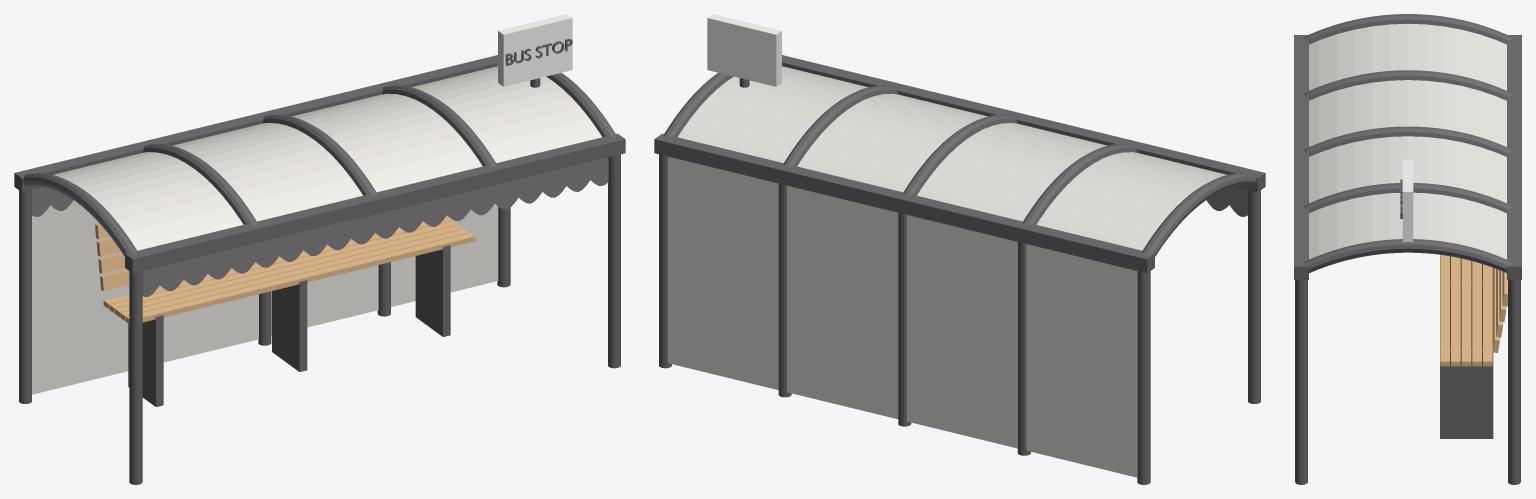
Rendered from 34-bus-stop-shelter-bs1.glb.
3 renders of one model, left to right at view 1: azimuth 30°, elevation 25°; view 2: azimuth 150°, elevation 25°; view 3: azimuth 270°, elevation 25°, orthographic. The views are drawn at different scales.
Parts seen in each view (by area): view 1: VaultSkin, RearGlazing, Valance_front, EaveBeam_front, EaveBeam_back, SignBlade, BenchSeat_0, PostFrontEnd_0, BenchLeg_0.0, BenchLeg_1.5, PostRear_0, PostFrontEnd_1 (+14 smaller); view 2: RearGlazing, VaultSkin, EaveBeam_back, EaveBeam_front, SignBlade, PostRear_0, PostFrontEnd_0, Rib_0, PostRear_1, PostRear_3, PostRear_2, PostRear_4 (+5 smaller); view 3: VaultSkin, BenchLeg_1.5, EaveBeam_front, EaveBeam_back, Rib_4, PostRear_4, PostFrontEnd_1, Rib_1, Rib_2, Rib_0, Rib_3, BenchSeat_2 (+8 smaller).
Part boxes in pixels (left/top/right/bottom): VaultSkin: left=53, top=66, right=601, bottom=250; RearGlazing: left=32, top=200, right=498, bottom=394; Valance_front: left=142, top=157, right=608, bottom=296; EaveBeam_front: left=125, top=133, right=625, bottom=273; EaveBeam_back: left=14, top=55, right=497, bottom=192; SignBlade: left=498, top=14, right=572, bottom=86; BenchSeat_0: left=126, top=232, right=475, bottom=323; PostFrontEnd_0: left=129, top=271, right=142, bottom=484; BenchLeg_0.0: left=272, top=280, right=307, bottom=371; BenchLeg_1.5: left=415, top=245, right=450, bottom=336; PostRear_0: left=19, top=190, right=31, bottom=403; PostFrontEnd_1: left=608, top=154, right=620, bottom=368; RearGlazing: left=668, top=156, right=1137, bottom=477; VaultSkin: left=678, top=66, right=1226, bottom=250; EaveBeam_back: left=654, top=133, right=1154, bottom=273; EaveBeam_front: left=782, top=55, right=1265, bottom=192; SignBlade: left=707, top=14, right=781, bottom=86; PostRear_0: left=1137, top=271, right=1150, bottom=484; PostFrontEnd_0: left=1248, top=190, right=1260, bottom=403; Rib_0: left=1142, top=173, right=1256, bottom=256; PostRear_1: left=1017, top=242, right=1030, bottom=455; PostRear_3: left=778, top=183, right=791, bottom=397; PostRear_2: left=898, top=213, right=911, bottom=426; PostRear_4: left=659, top=154, right=671, bottom=368; VaultSkin: left=1309, top=23, right=1506, bottom=259; BenchLeg_1.5: left=1440, top=348, right=1493, bottom=438; EaveBeam_front: left=1294, top=35, right=1308, bottom=279; EaveBeam_back: left=1507, top=35, right=1521, bottom=279; Rib_4: left=1303, top=239, right=1512, bottom=273; PostRear_4: left=1508, top=280, right=1520, bottom=484; PostFrontEnd_1: left=1295, top=280, right=1307, bottom=484; Rib_1: left=1303, top=70, right=1512, bottom=100; Rib_2: left=1303, top=126, right=1512, bottom=156; Rib_0: left=1303, top=14, right=1512, bottom=44; Rib_3: left=1303, top=183, right=1512, bottom=213; BenchSeat_2: left=1461, top=258, right=1471, bottom=366.
Bounding box in the file's own units: 5.19 × 3.06 × 2.14.
